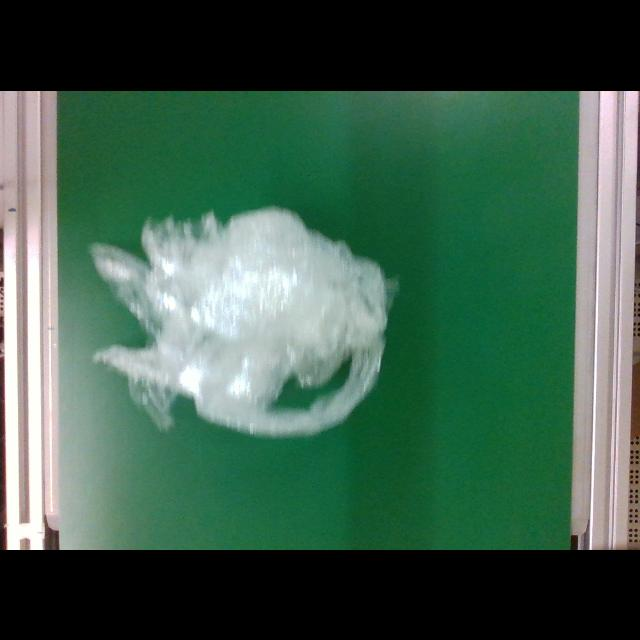scrap_plastic: (88, 201, 400, 437)
